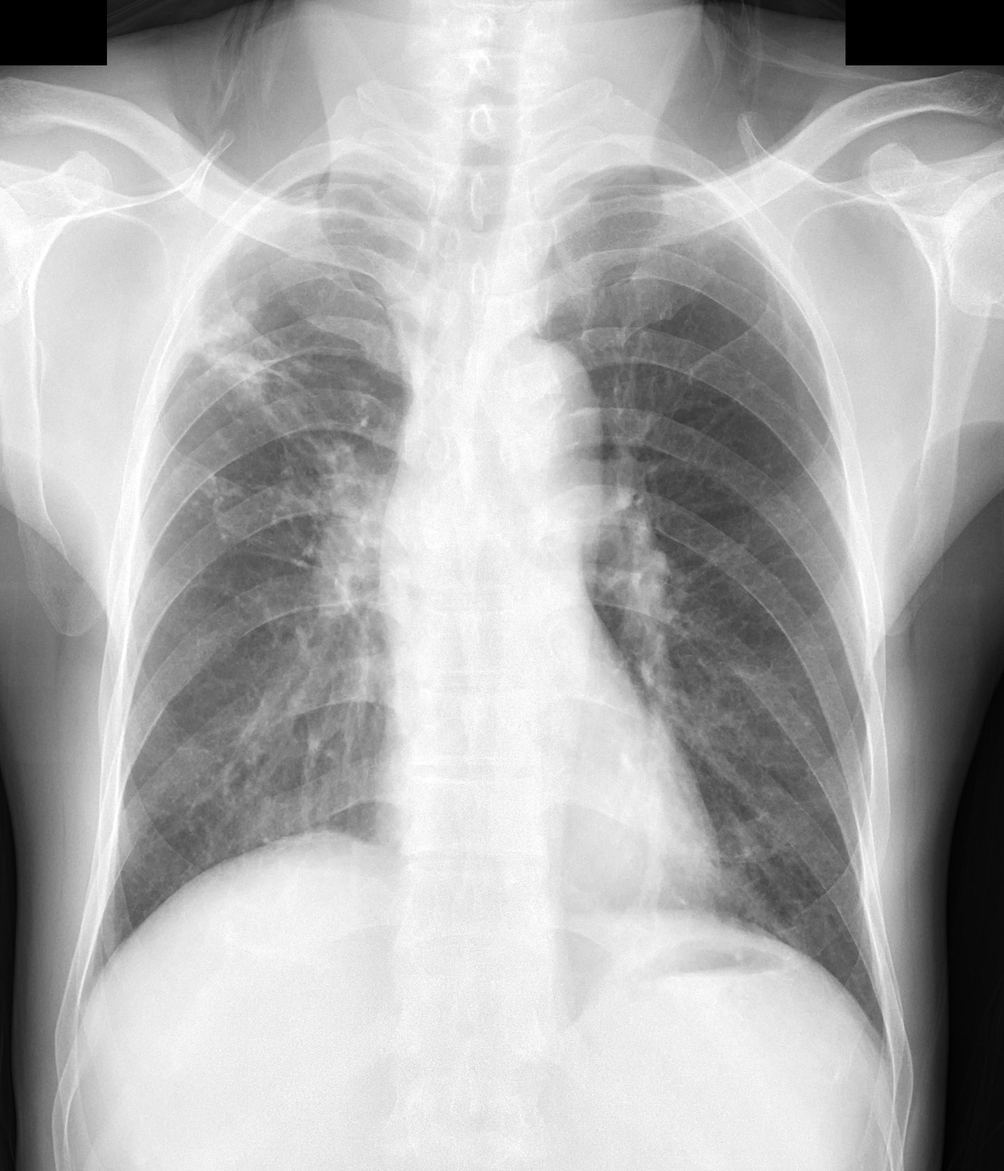Aortic enlargement: (475, 334, 597, 470)
Pulmonary fibrosis: (170, 221, 319, 530)
